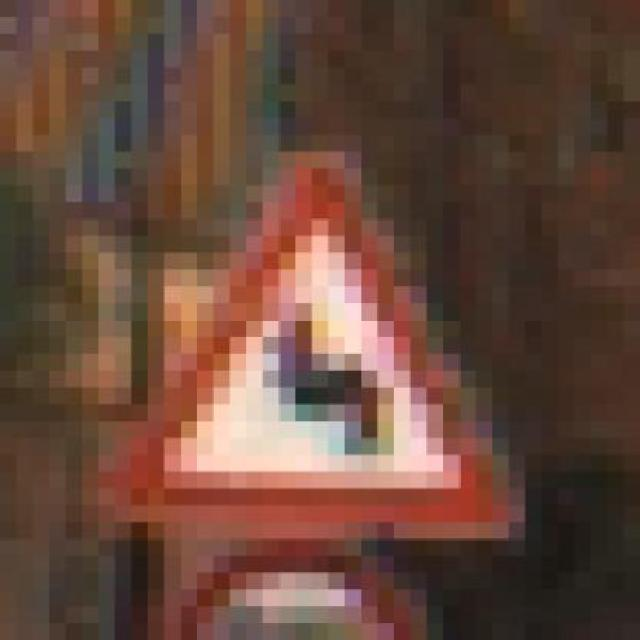Left Zig Zag Traffic: (81, 118, 542, 539)
